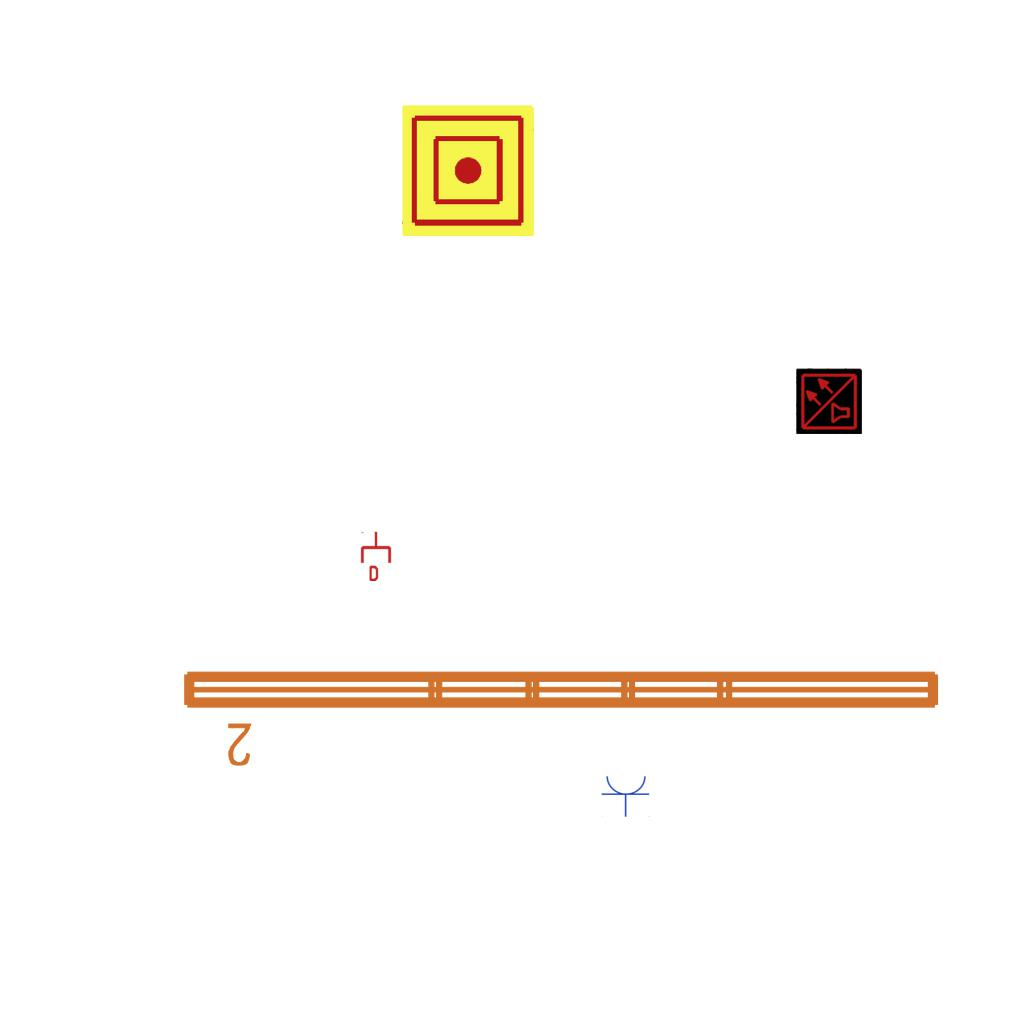Ambulanz_Pendelleuchte_LED: (175, 659, 949, 771)
Datenanschluss_einfach: (359, 531, 393, 581)
NAM-Nichtautomatischer_Melder: (402, 105, 534, 237)
OKW_Multisensormelder_(Kombination_optischer_Rauch-Kahlenmonoxid_Waerme-Melder): (796, 368, 862, 434)
Schukosteckdose_einfach: (601, 774, 651, 817)
